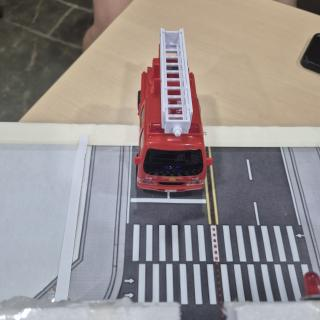Fire_truck: (134, 28, 213, 193)
